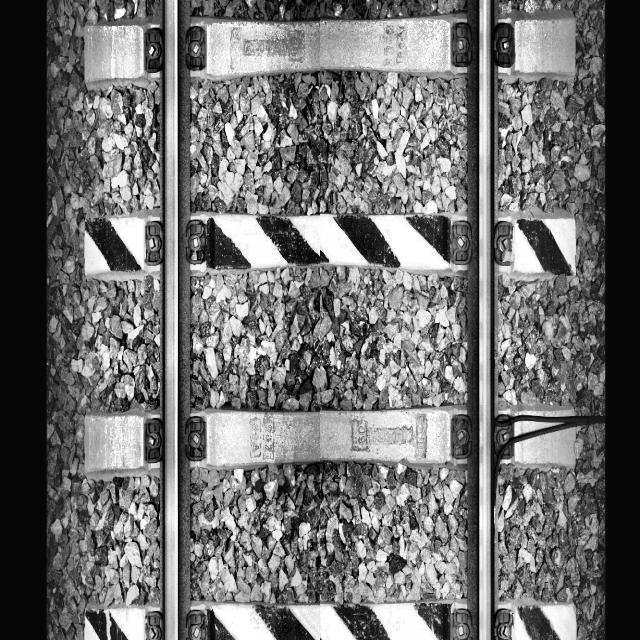Clips: (184, 414, 207, 460), (493, 23, 516, 69), (185, 25, 207, 73), (450, 22, 472, 68), (143, 27, 164, 74), (451, 220, 472, 267), (186, 220, 207, 266), (493, 414, 514, 460), (143, 219, 163, 267), (494, 220, 514, 268), (451, 414, 471, 460), (143, 418, 163, 462), (184, 608, 208, 640), (450, 608, 472, 638), (144, 609, 164, 640), (494, 609, 513, 640)
Sleepers: (84, 408, 576, 477), (84, 214, 578, 281), (84, 21, 576, 87), (82, 599, 575, 640)
